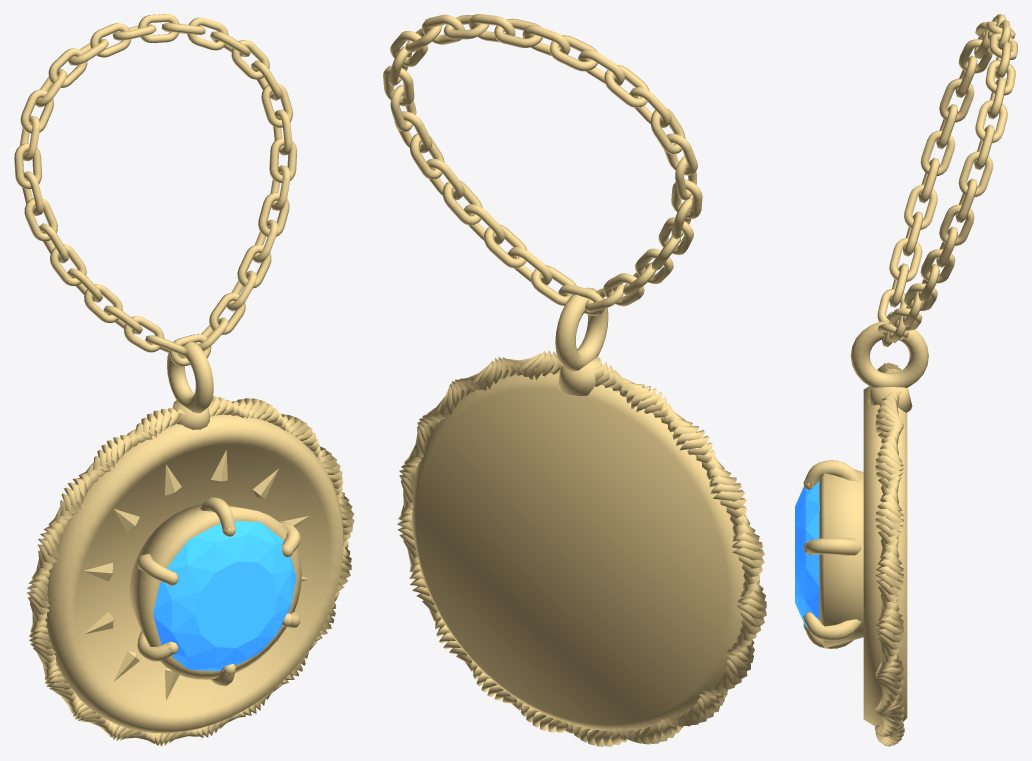
Rendered from jewel_amulet_rare.glb.
3 views of the same model, side by side, from view 1: azimuth 30°, elevation 25°; view 2: azimuth 150°, elevation 25°; view 3: azimuth 270°, elevation 25° (orthographic). The views are drawn at different scales.
Visible parts, largest first — view 1: jewel_amulet_rare; view 2: jewel_amulet_rare; view 3: jewel_amulet_rare.
Boxes of the visible parts, x1,y1,x2,y2 form: jewel_amulet_rare: [14, 14, 354, 746]; jewel_amulet_rare: [383, 14, 766, 746]; jewel_amulet_rare: [795, 14, 1017, 746].
Bounding box in the file's own units: 2.19 × 4.4 × 1.28.
